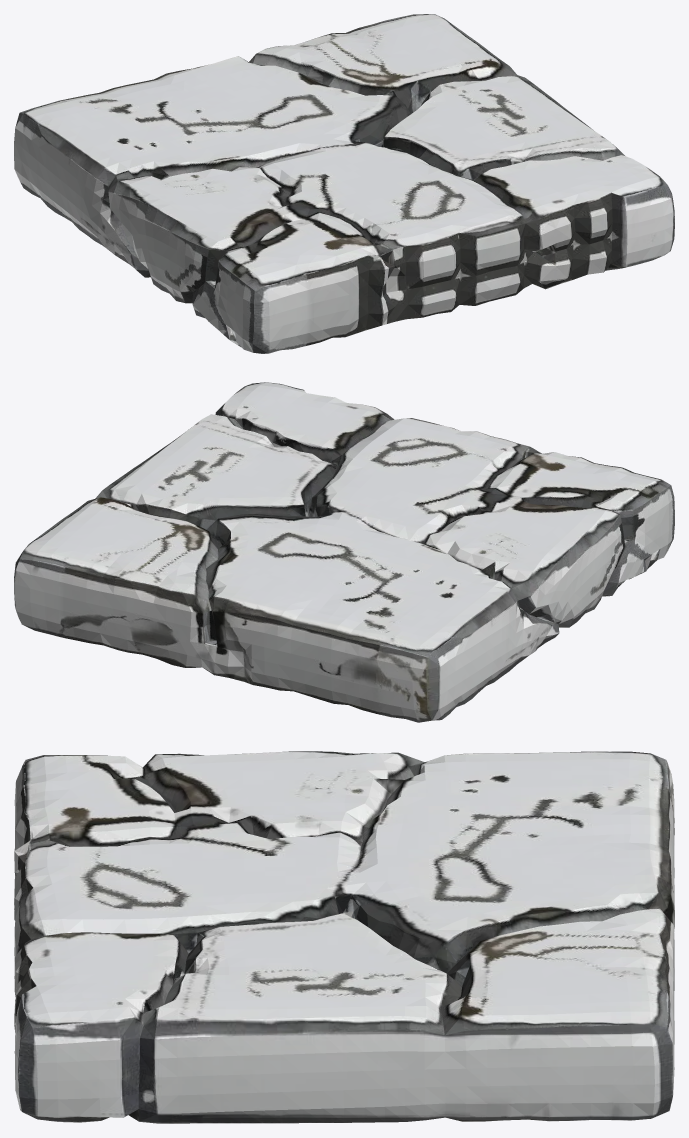
File: t_Stone_Ches.glb
3 renders of one model, top to bottom at view 1: azimuth 30°, elevation 25°; view 2: azimuth 150°, elevation 25°; view 3: azimuth 270°, elevation 25°, orthographic. The views are drawn at different scales.
Size of the model in its own units: 1.91 by 0.3464 by 1.91.
Materials: 1 (1 with a texture image).
